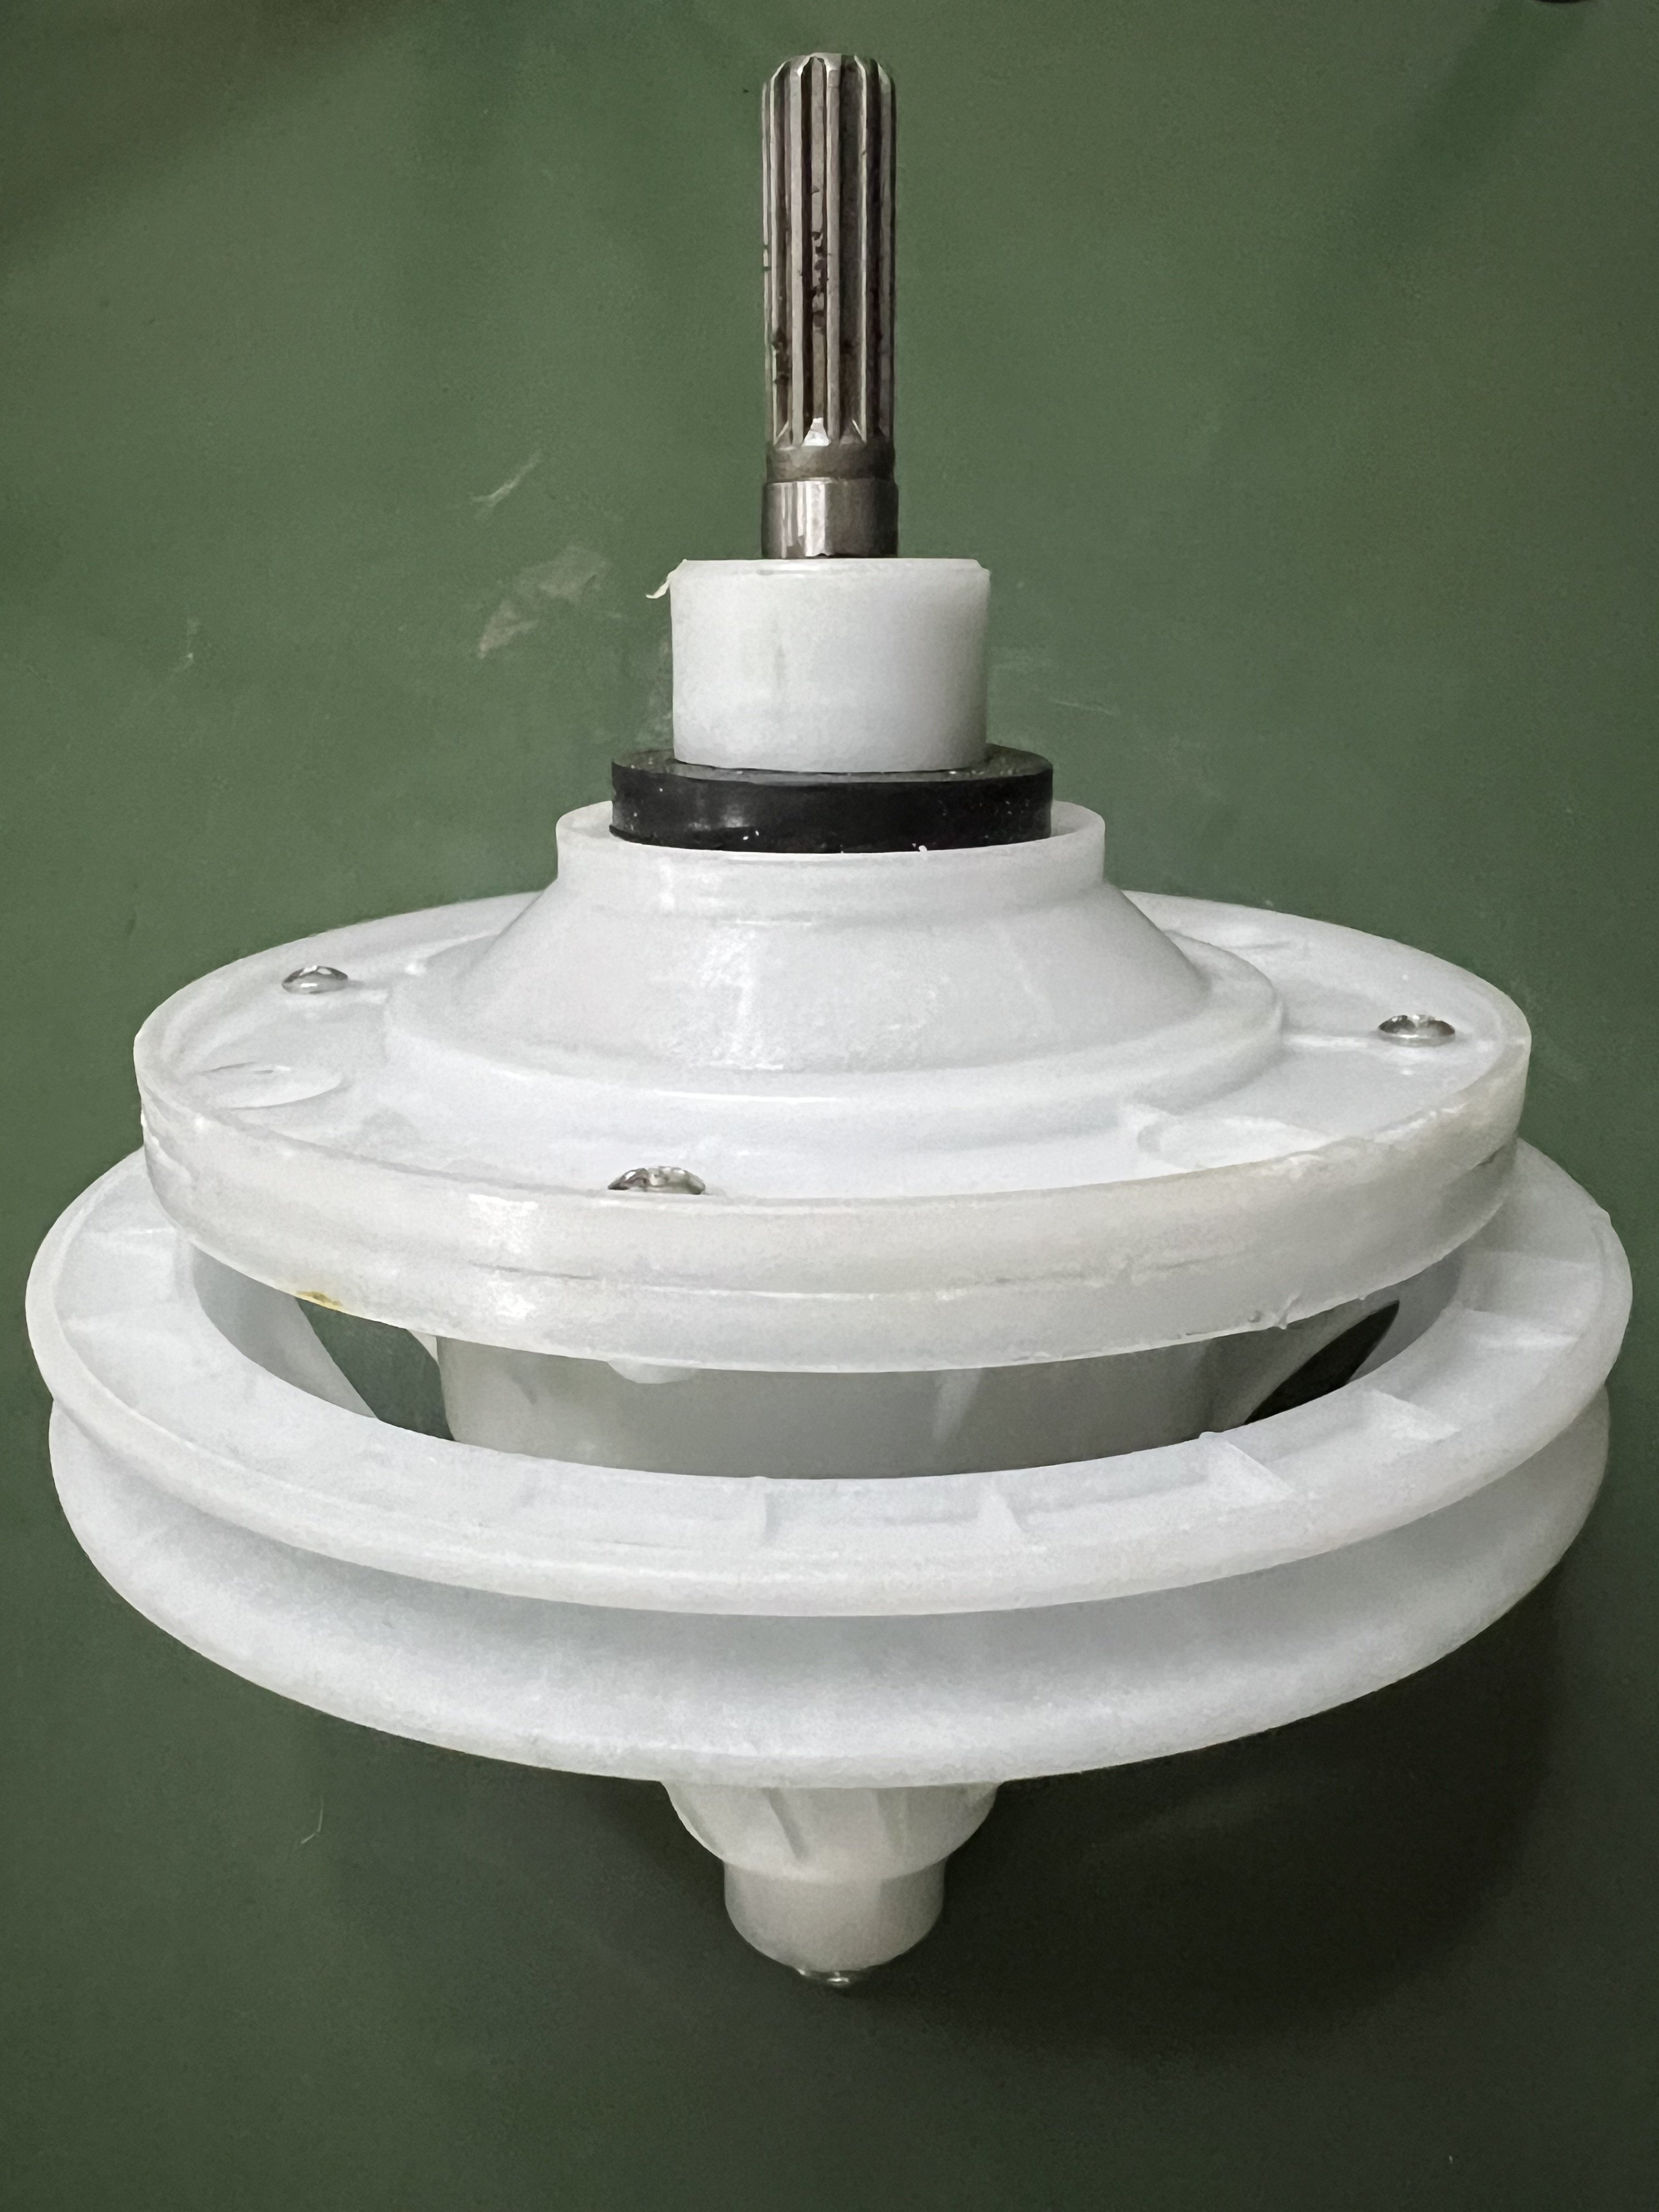gear_box_circle: (52, 54, 1628, 1982)
